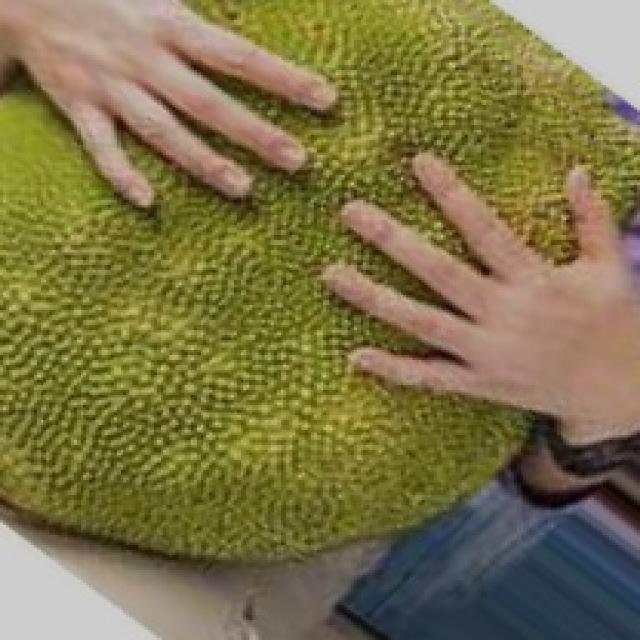Fruit: (295, 0, 640, 325), (237, 280, 581, 590)
